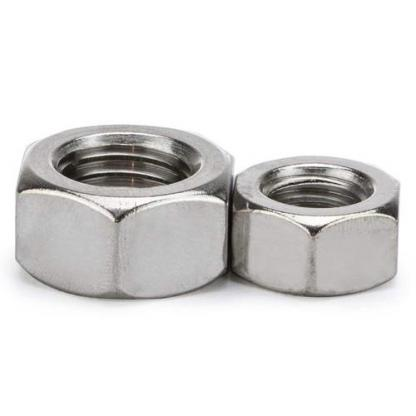FOD: (13, 121, 237, 300), (226, 152, 401, 298)
